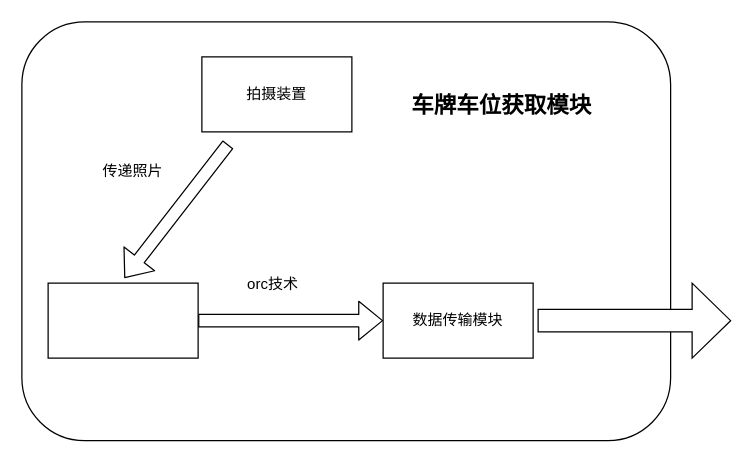
This 753x463 diagram has some shape labels left out. Here are the shapes that lost their labels. From the top down, the centre of each, then its label:
At (122,320): "图像处理".
At (634,320): "把数据".
